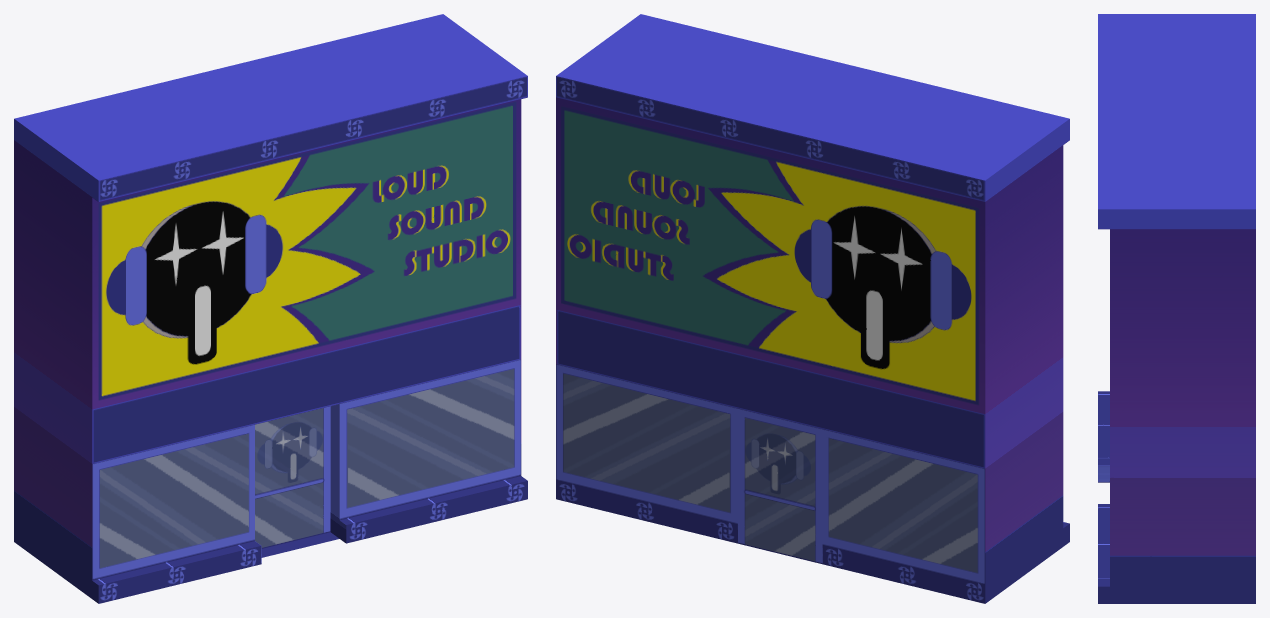
Rendered from LSS_Bldg.fbx.
3 views of the same model, side by side, from view 1: azimuth 30°, elevation 25°; view 2: azimuth 150°, elevation 25°; view 3: azimuth 270°, elevation 25° (orthographic). The views are drawn at different scales.
Parts seen in each view (by area): view 1: LSS_Bldg_; view 2: LSS_Bldg_; view 3: LSS_Bldg_.
Part boxes in pixels (box(x1,y1,x2,y2)): LSS_Bldg_: box(14, 14, 527, 603); LSS_Bldg_: box(556, 14, 1069, 603); LSS_Bldg_: box(1098, 14, 1255, 603).
Size of the model in its own units: 6.49 by 6.12 by 2.22.
1 material, 1 textured.
